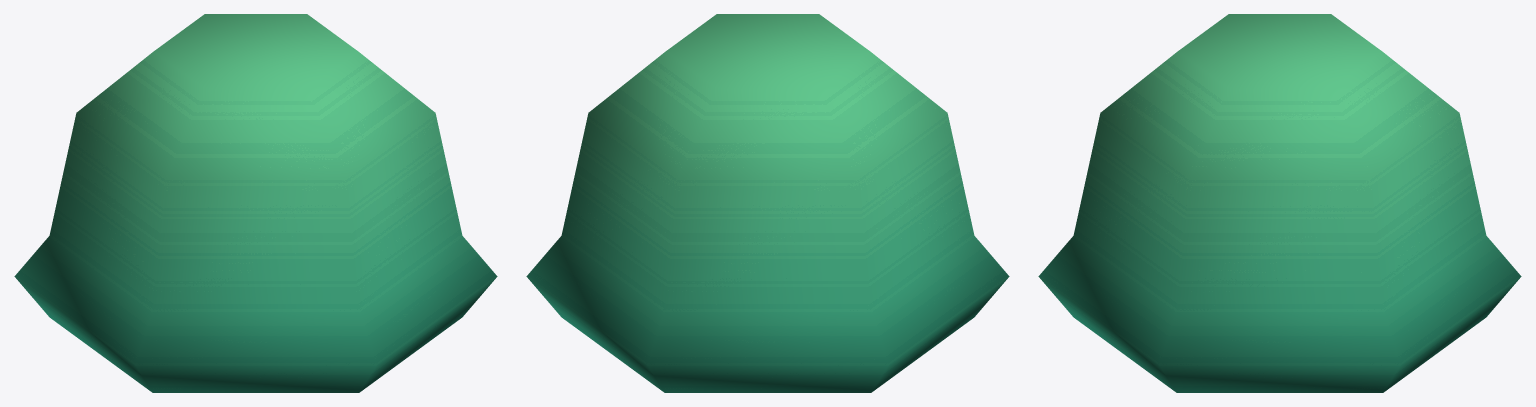
The model's file is food-ice-cream-scoop-mint.glb.
The picture shows the model from 3 angles, left to right: view 1: azimuth 30°, elevation 25°; view 2: azimuth 150°, elevation 25°; view 3: azimuth 270°, elevation 25°; orthographic projection.
Parts seen in each view (by area): view 1: ice-cream-scoop-mint; view 2: ice-cream-scoop-mint; view 3: ice-cream-scoop-mint.
Boxes of the visible parts, box(x1,y1,x2,y2) form: ice-cream-scoop-mint: box(14, 14, 497, 392); ice-cream-scoop-mint: box(526, 14, 1009, 392); ice-cream-scoop-mint: box(1038, 14, 1521, 392).
Bounding box in the file's own units: 0.2352 × 0.165 × 0.2716.
Materials: 1 (1 with a texture image).
